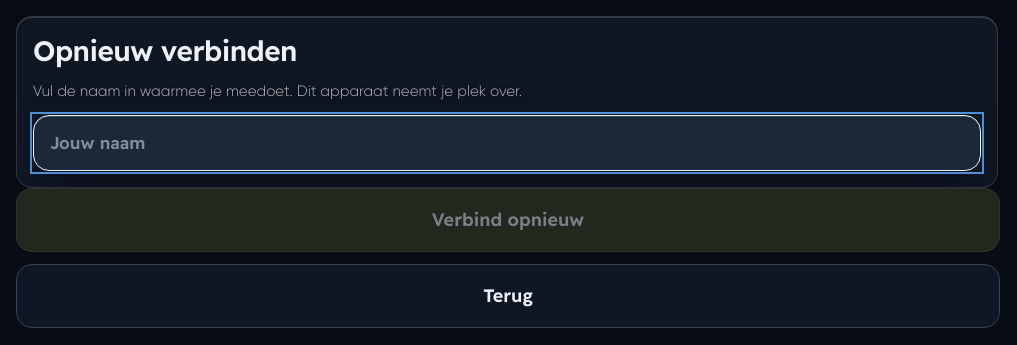
ReclaimPlayerStep › zet de knop uit tijdens het versturen en weer aan daarna
This screenshot has width=1017, height=345.
Later steps or results of the test are not shown.
Type "Tomas" into the field with placeholder "Jouw naam".
click(507, 143); type("Tomas")  # box [34,116,980,170]
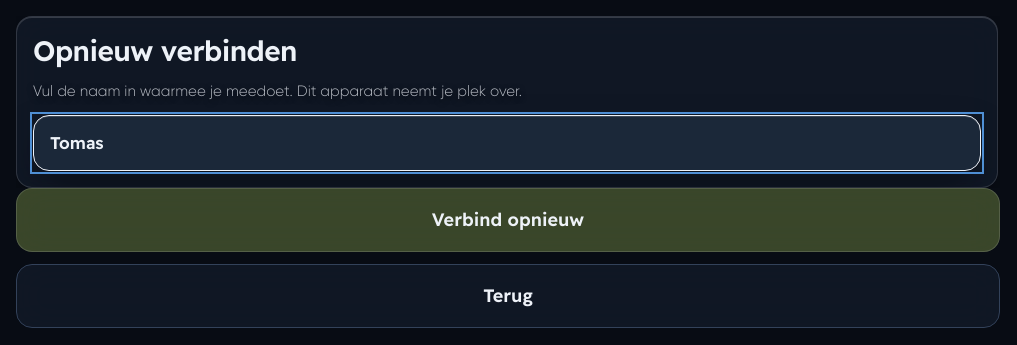
Click the button "Verbind opnieuw".
click(508, 220)  # box [16,188,1000,252]
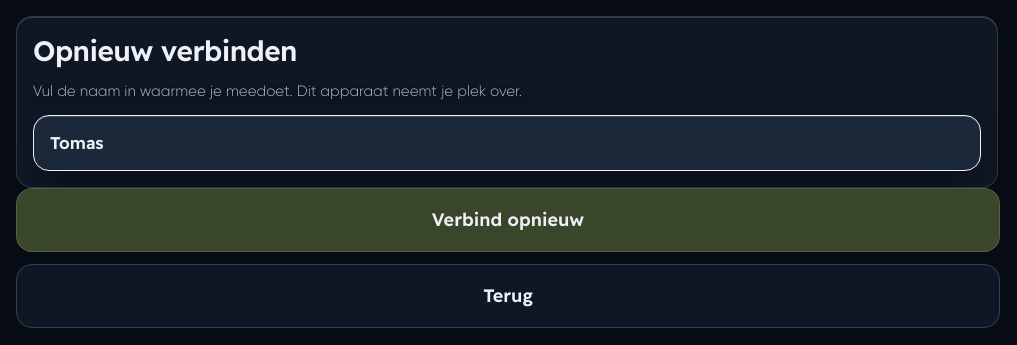
Expected: the button "Verbind opnieuw" is enabled, [16,188,1000,252]
